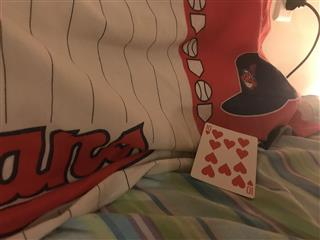TenOfHearts: (188, 120, 258, 200)
